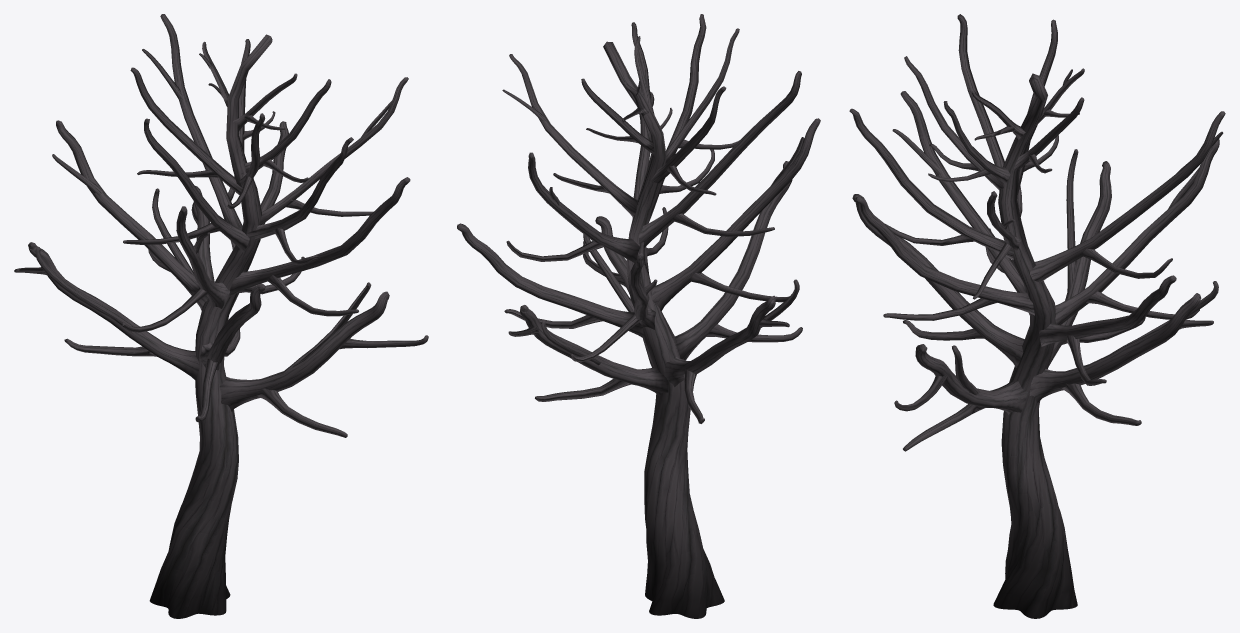
Rendered from dead_1.glb.
3 renders of one model, left to right at view 1: azimuth 30°, elevation 25°; view 2: azimuth 150°, elevation 25°; view 3: azimuth 270°, elevation 25°, orthographic. The views are drawn at different scales.
Visible parts, largest first — view 1: DeadTree_1; view 2: DeadTree_1; view 3: DeadTree_1.
Boxes of the visible parts, left/top/right/bottom form: DeadTree_1: left=14, top=14, right=428, bottom=618; DeadTree_1: left=457, top=14, right=820, bottom=618; DeadTree_1: left=849, top=14, right=1225, bottom=618.
Bounding box in the file's own units: 6.15 × 9.5 × 5.75.
Materials: 1 (1 with a texture image).
